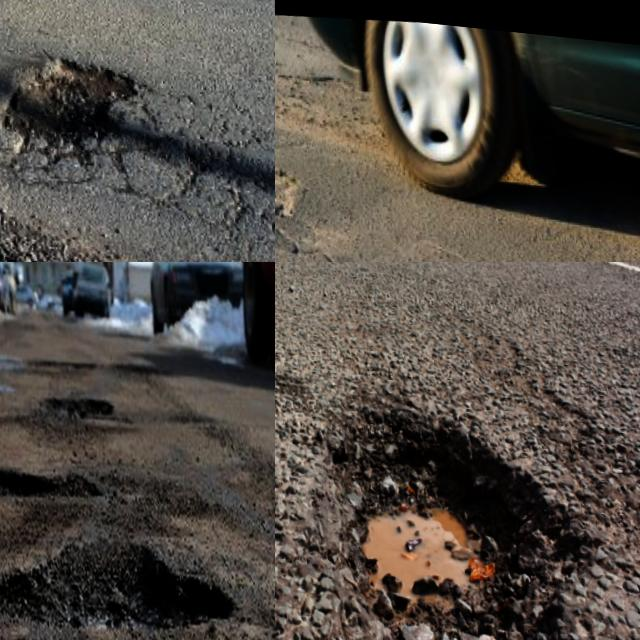Potholes: (300, 332, 562, 635), (0, 482, 270, 640), (0, 0, 140, 192), (275, 190, 640, 262), (0, 421, 107, 559), (33, 377, 133, 453), (17, 328, 100, 409), (275, 105, 313, 255)
